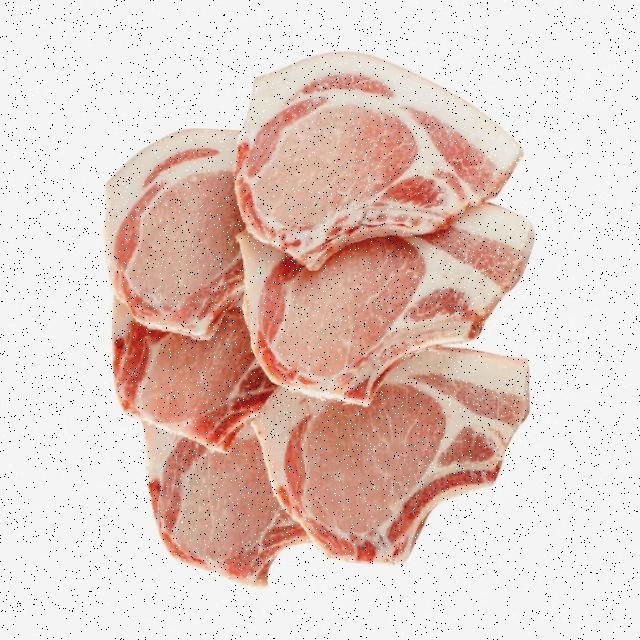Pork: (71, 50, 573, 577)
